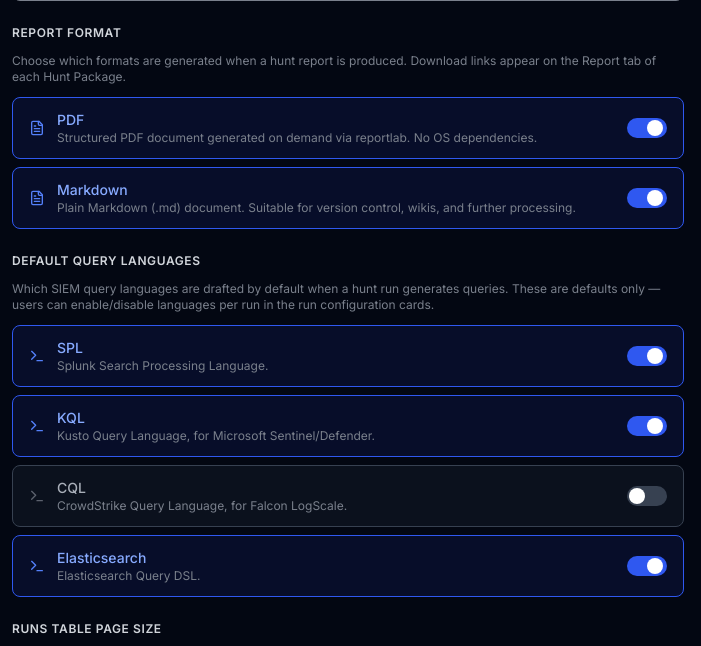
Test: ThreatHuntingSettingsTab Default Query Languages (issue-local-041) › warns when every language is disabled
(page scrolled)
Check: the text "Default Query Languages" is shown, box [12,253,201,268]
Click the button "SPL Splunk Search Processing Language.".
click(163, 366)  # box [12,325,684,387]
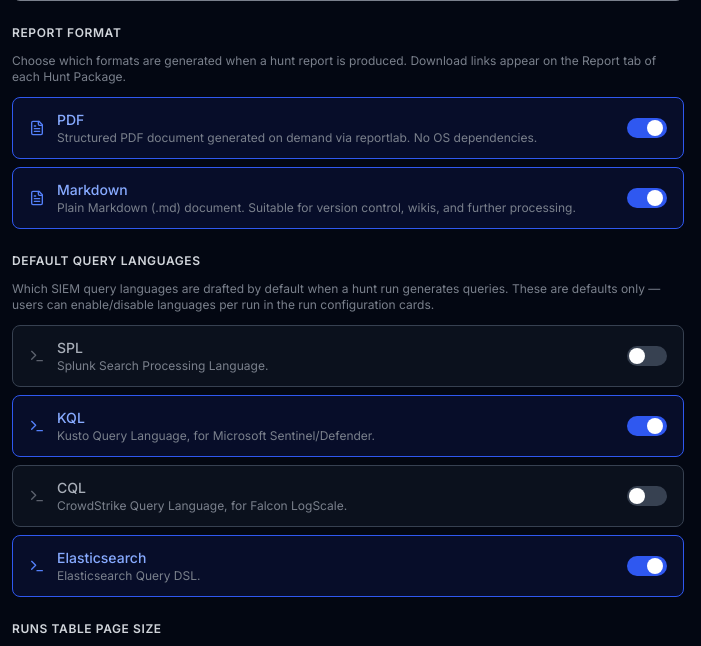
Click the button "KQL".
click(348, 426)  # box [12,395,684,457]
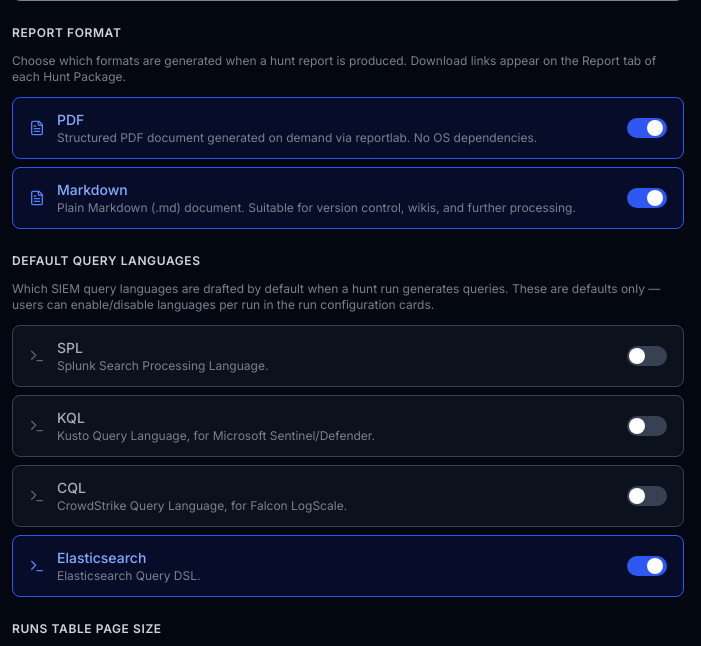
Click the button "Elasticsearch Elasticsearch Query DSL.".
click(102, 558)  # box [12,535,684,597]
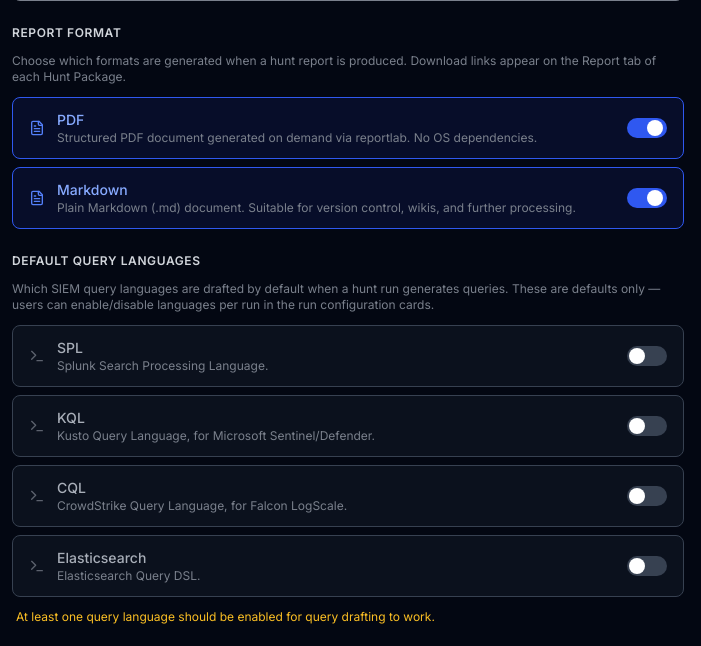
Check: the text "At least one query language should be enabled" is shown, box [16,609,435,624]
